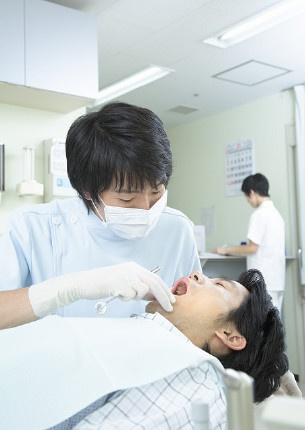Mask: (105, 175, 170, 240)
